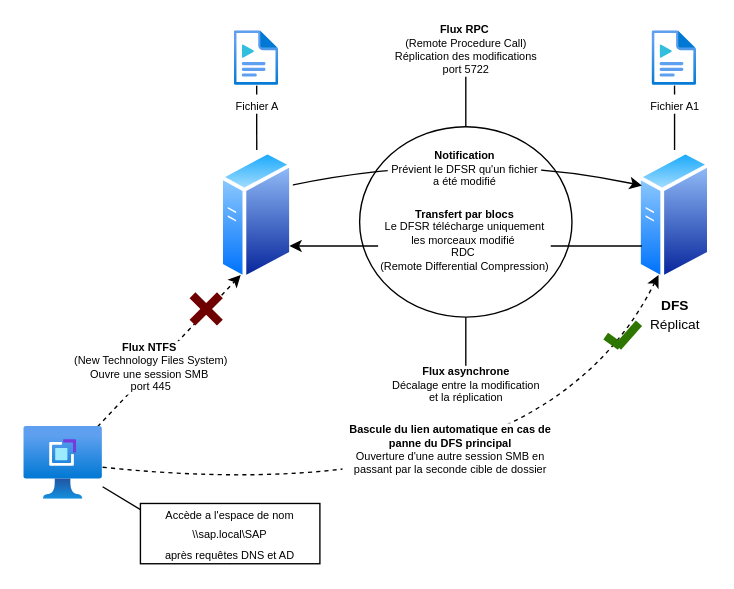
The diagram is 734 pixels wide and 589 high, and some of its shapes have lost their labels. The centre of each missing label's shape, as x and y in pixels:
Client: (62,462)
DFS: (256,215)
